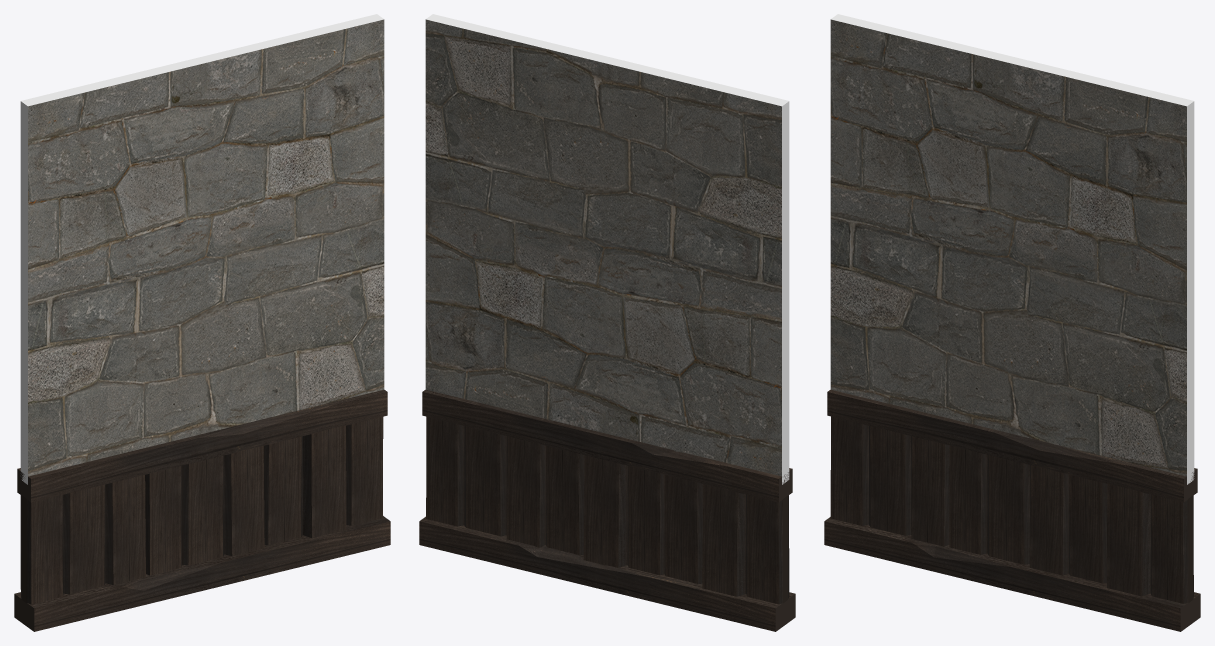
File: wall 1.fbx
The picture shows the model from 3 angles, left to right: view 1: azimuth 30°, elevation 25°; view 2: azimuth 150°, elevation 25°; view 3: azimuth 330°, elevation 25°; orthographic projection.
Visible parts, largest first — view 1: SM_Bld_House_Wall_02, SM_Bld_House_Wall_02.001; view 2: SM_Bld_House_Wall_02, SM_Bld_House_Wall_02.001; view 3: SM_Bld_House_Wall_02, SM_Bld_House_Wall_02.001.
Part boxes in pixels (x1,y1,x2,y2): SM_Bld_House_Wall_02: (20, 14, 384, 484); SM_Bld_House_Wall_02.001: (14, 389, 390, 631); SM_Bld_House_Wall_02: (425, 14, 789, 484); SM_Bld_House_Wall_02.001: (419, 389, 795, 631); SM_Bld_House_Wall_02: (830, 14, 1194, 484); SM_Bld_House_Wall_02.001: (824, 389, 1200, 631).
Size of the model in its own units: 250 by 349 by 24.2.
2 materials, 2 textured.
